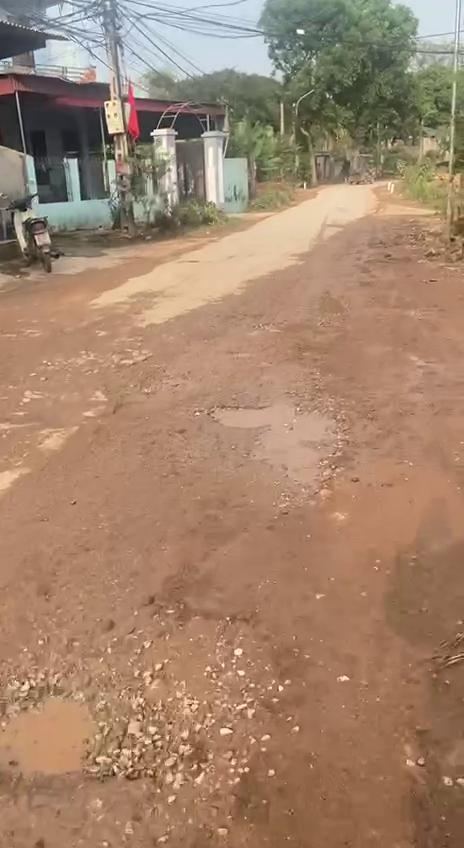pothole: (0, 596, 284, 802), (210, 397, 350, 490)
